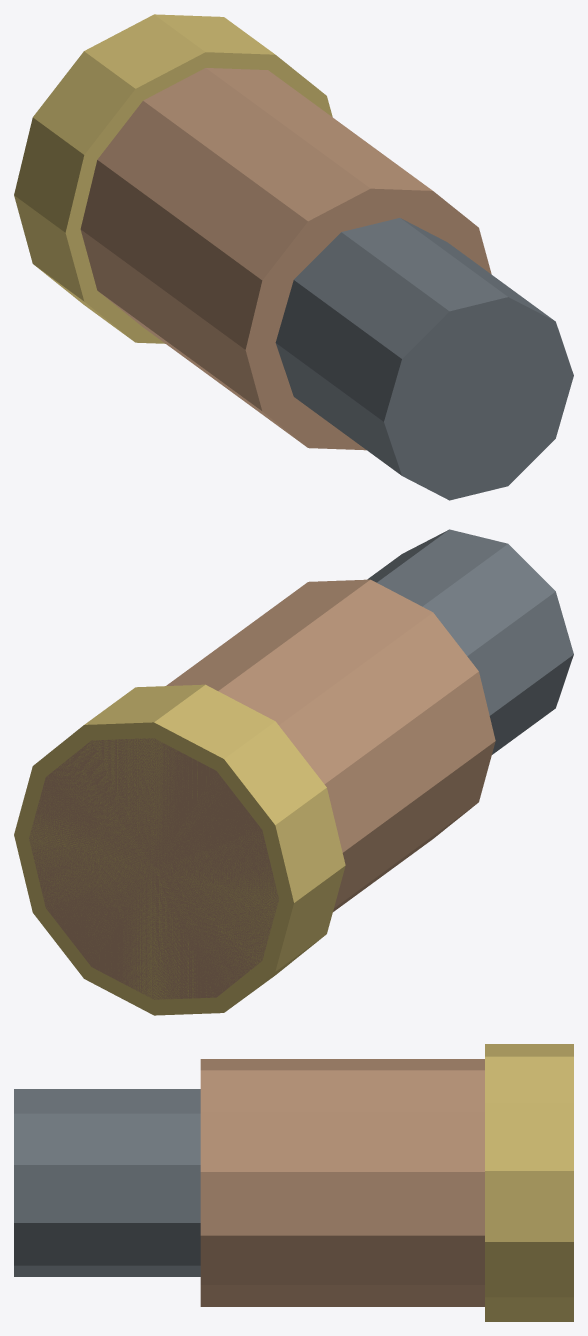
The model's file is ammo_38.glb.
The picture shows the model from 3 angles, top to bottom: view 1: azimuth 30°, elevation 25°; view 2: azimuth 150°, elevation 25°; view 3: azimuth 270°, elevation 25°; orthographic projection. The views are drawn at different scales.
Visible parts, largest first — view 1: 00_brass_case, 02_projectile, 01_rim; view 2: 00_brass_case, 01_rim, 02_projectile; view 3: 00_brass_case, 02_projectile, 01_rim.
Part boxes in pixels (x1,y1,x2,y2): 00_brass_case: (80,68,491,450); 02_projectile: (275,218,573,500); 01_rim: (14,14,332,343); 00_brass_case: (29,579,495,999); 01_rim: (14,684,345,1015); 02_projectile: (367,529,573,754); 00_brass_case: (200,1059,484,1306); 02_projectile: (14,1089,200,1276); 01_rim: (485,1044,573,1321).
Size of the model in its own units: 0.0784 by 0.0784 by 0.1575.
